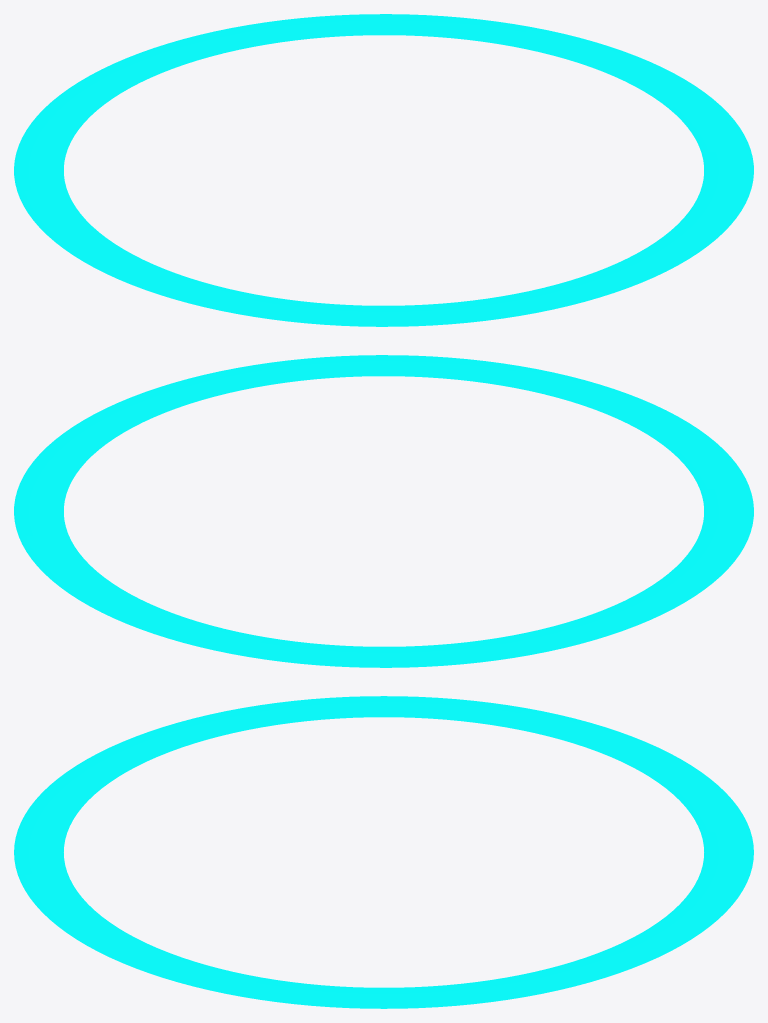
File: ringseed.fbx
3 renders of one model, top to bottom at view 1: azimuth 30°, elevation 25°; view 2: azimuth 150°, elevation 25°; view 3: azimuth 270°, elevation 25°, orthographic.
Visible parts, largest first — view 1: NoSeed; view 2: NoSeed; view 3: NoSeed.
Part boxes in pixels (x1,y1,x2,y2): NoSeed: [14, 14, 753, 326]; NoSeed: [14, 355, 753, 667]; NoSeed: [14, 696, 753, 1008].
Bounding box in the file's own units: 3060 × 1.83 × 3060.
